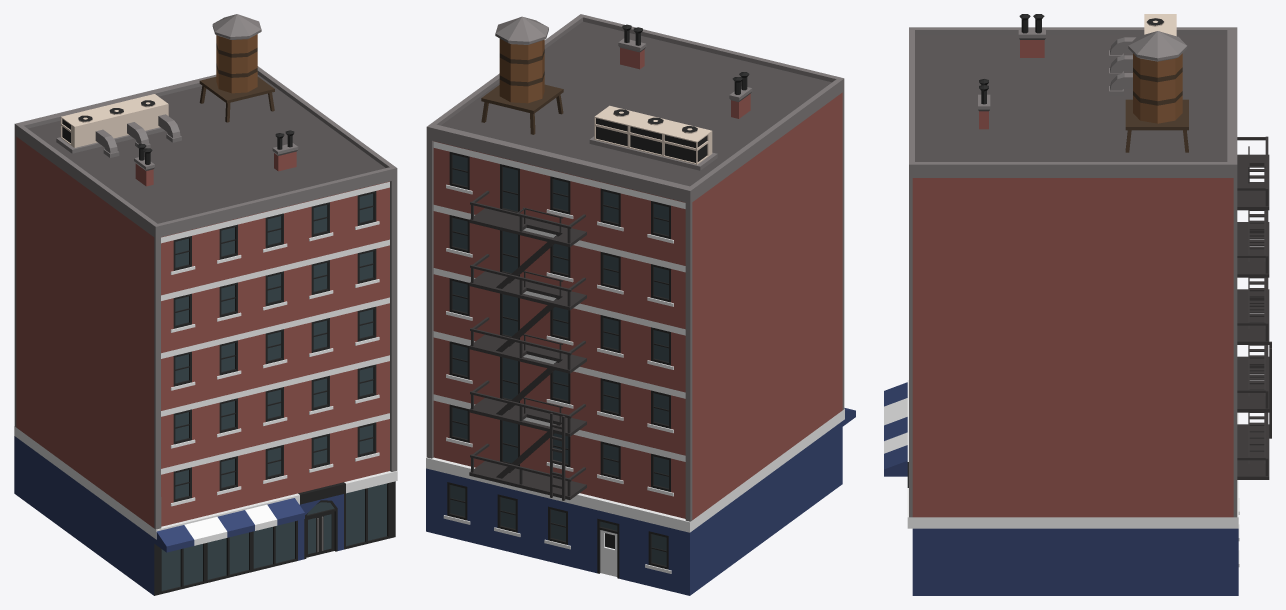
The model's file is buildings_building-block-5floor.fbx.
The picture shows the model from 3 angles, left to right: view 1: azimuth 30°, elevation 25°; view 2: azimuth 150°, elevation 25°; view 3: azimuth 270°, elevation 25°; orthographic projection. The views are drawn at different scales.
Parts seen in each view (by area): view 1: buildings_building_block_5floor; view 2: buildings_building_block_5floor; view 3: buildings_building_block_5floor.
Boxes of the visible parts, left/top/right/bottom form: buildings_building_block_5floor: left=14, top=14, right=397, bottom=595; buildings_building_block_5floor: left=426, top=14, right=855, bottom=595; buildings_building_block_5floor: left=884, top=14, right=1271, bottom=595.
Bounding box in the file's own units: 110 × 200 × 131.
